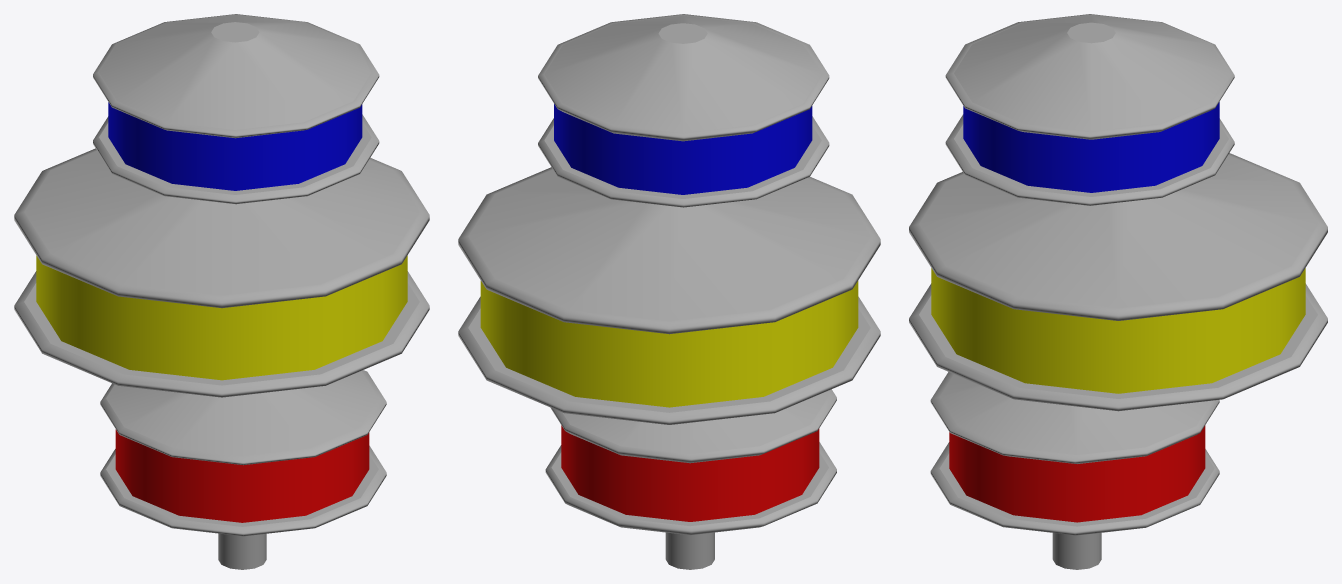
Rendered from storefront-triple-decker-sign.fbx.
3 renders of one model, left to right at view 1: azimuth 30°, elevation 25°; view 2: azimuth 150°, elevation 25°; view 3: azimuth 270°, elevation 25°, orthographic.
Parts seen in each view (by area): view 1: storefront_triple_decker_sign; view 2: storefront_triple_decker_sign; view 3: storefront_triple_decker_sign.
Boxes of the visible parts, left/top/right/bottom form: storefront_triple_decker_sign: left=14, top=14, right=429, bottom=569; storefront_triple_decker_sign: left=458, top=14, right=880, bottom=569; storefront_triple_decker_sign: left=909, top=14, right=1327, bottom=569.
Bounding box in the file's own units: 5.82 × 8.08 × 5.82.
